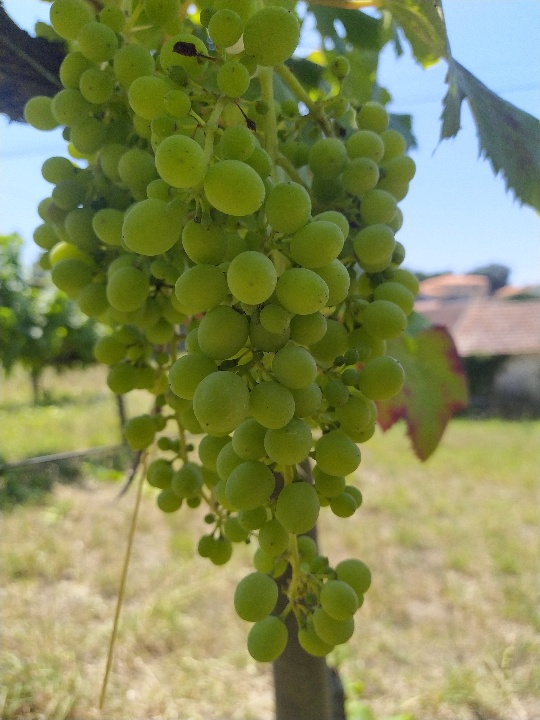grape: (21, 2, 423, 662)
